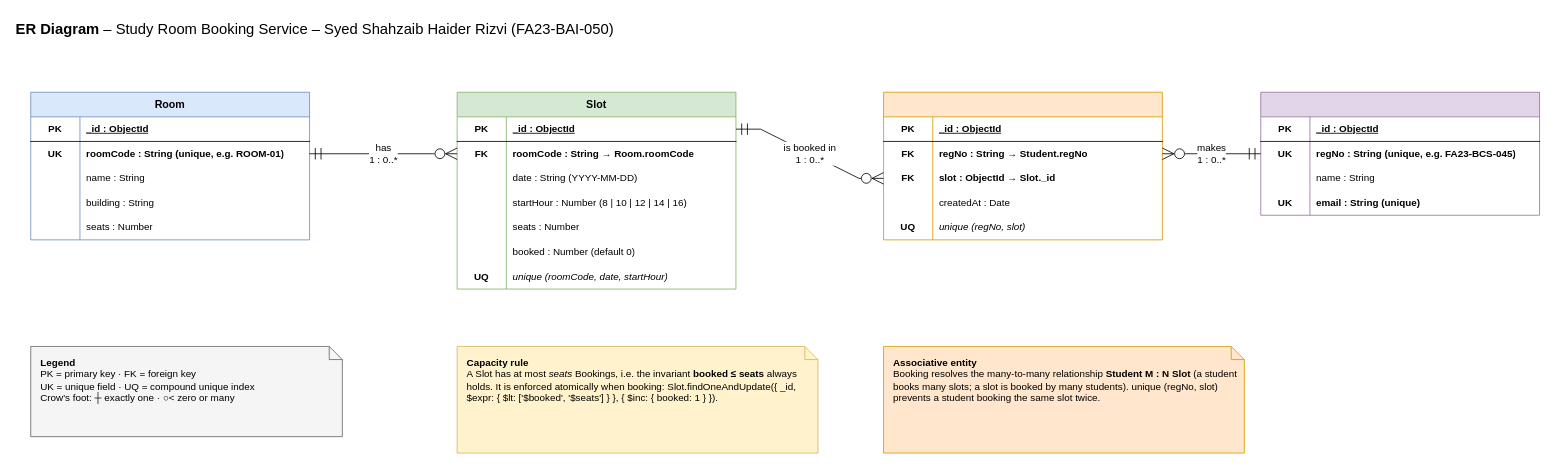
The diagram is 1554 pixels wide and 467 high, and some of its shapes have lost their labels. Each missing label, with the box of its shape:
Booking «associative entity»: (883, 91, 1162, 240)
Student: (1260, 91, 1540, 215)
